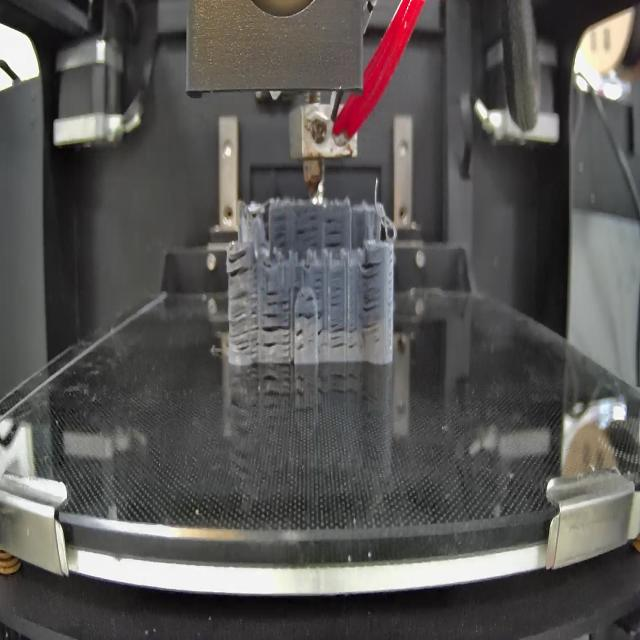cracks: (228, 290, 261, 356), (362, 258, 383, 330), (263, 312, 291, 362), (316, 323, 359, 350), (227, 244, 253, 278), (298, 211, 320, 249), (270, 212, 291, 250), (326, 213, 344, 248), (329, 272, 345, 308), (267, 283, 290, 308), (298, 308, 324, 324), (313, 267, 325, 294), (294, 327, 306, 353), (304, 295, 315, 305)
